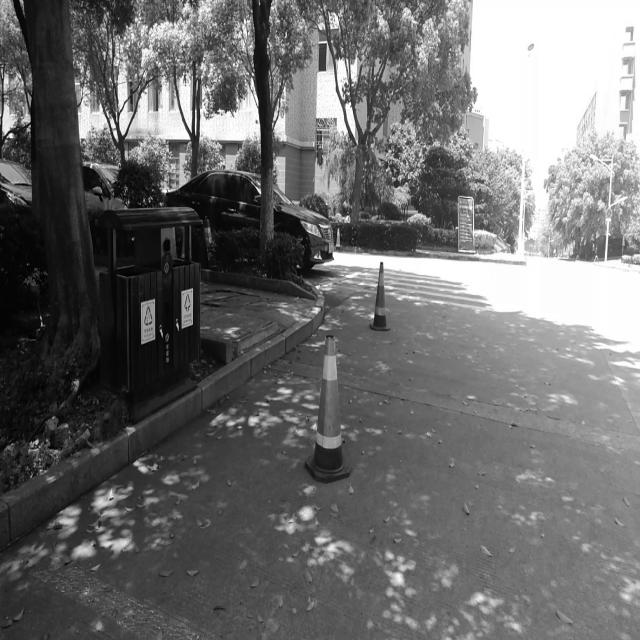ash bin: (95, 204, 203, 422)
car: (162, 170, 334, 272), (78, 159, 130, 211), (0, 157, 32, 208)
reflective_cone: (306, 334, 352, 477), (369, 262, 391, 330), (334, 226, 341, 252)
